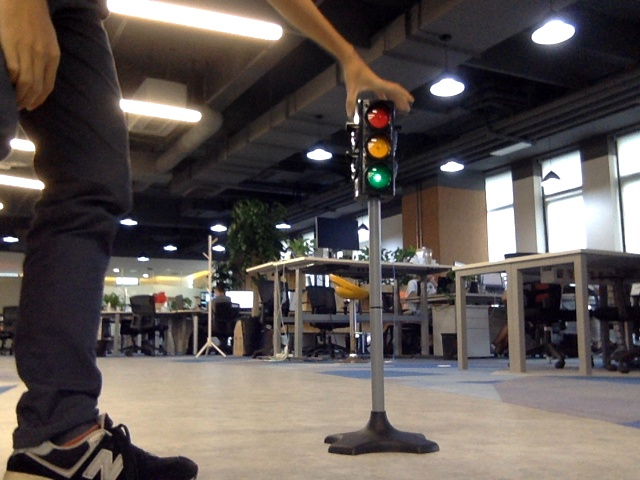green: (361, 105, 390, 190)
